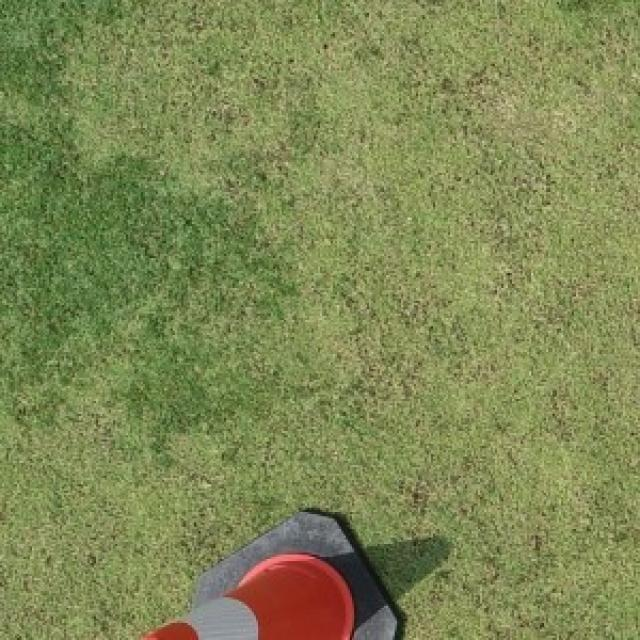cone: (143, 505, 399, 638)
